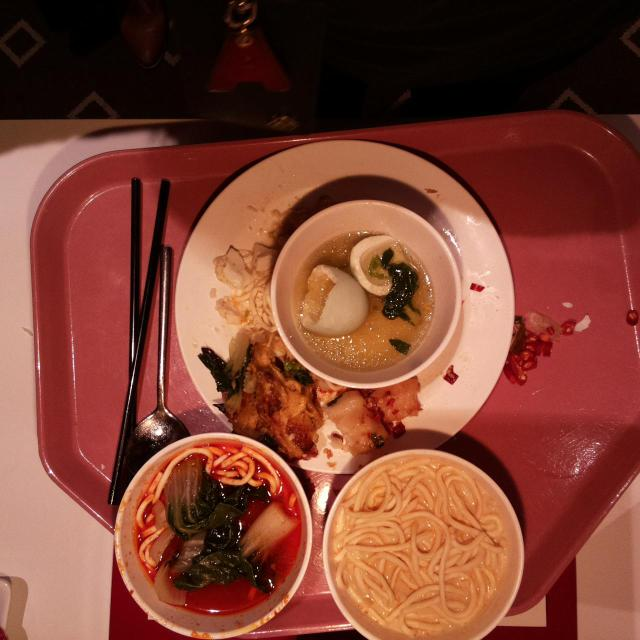Fish: (323, 390, 391, 458), (365, 374, 423, 424)
Meat: (239, 371, 321, 452)
Noodle: (363, 473, 505, 635), (201, 442, 279, 493)
Vegetable: (170, 465, 272, 595), (382, 250, 420, 322)
